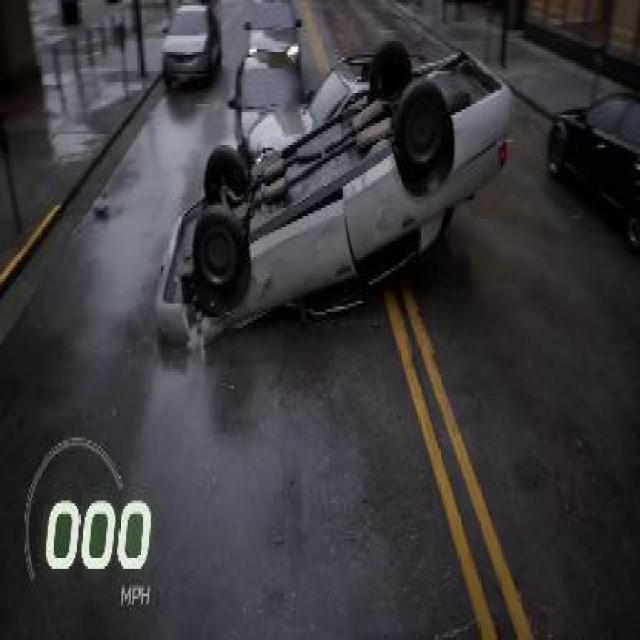accident: (152, 31, 513, 368)
